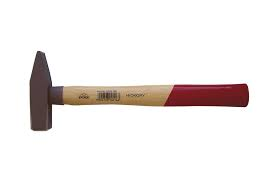hammer: (29, 49, 250, 131)
